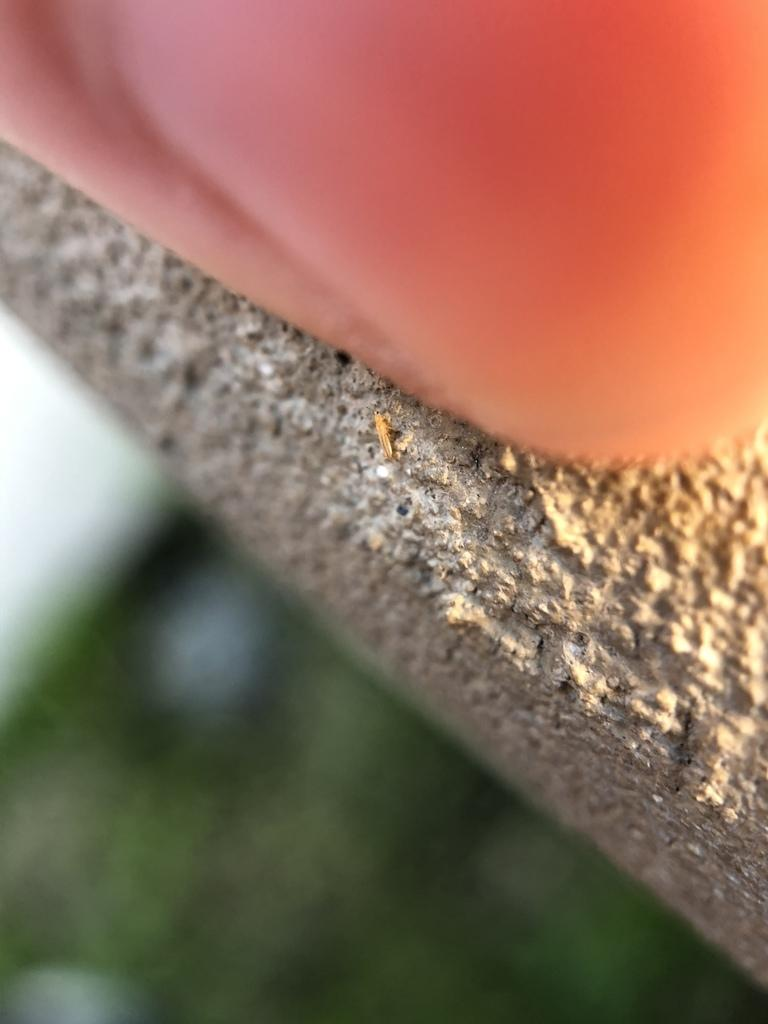tiny_pests: (354, 393, 415, 478)
